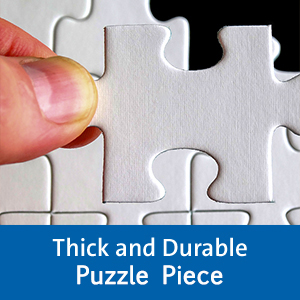puzzle piece: (51, 18, 300, 207)
